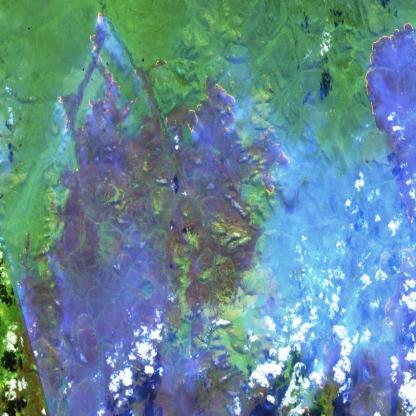fire: (52, 1, 160, 154), (176, 72, 242, 134), (260, 124, 293, 198)
